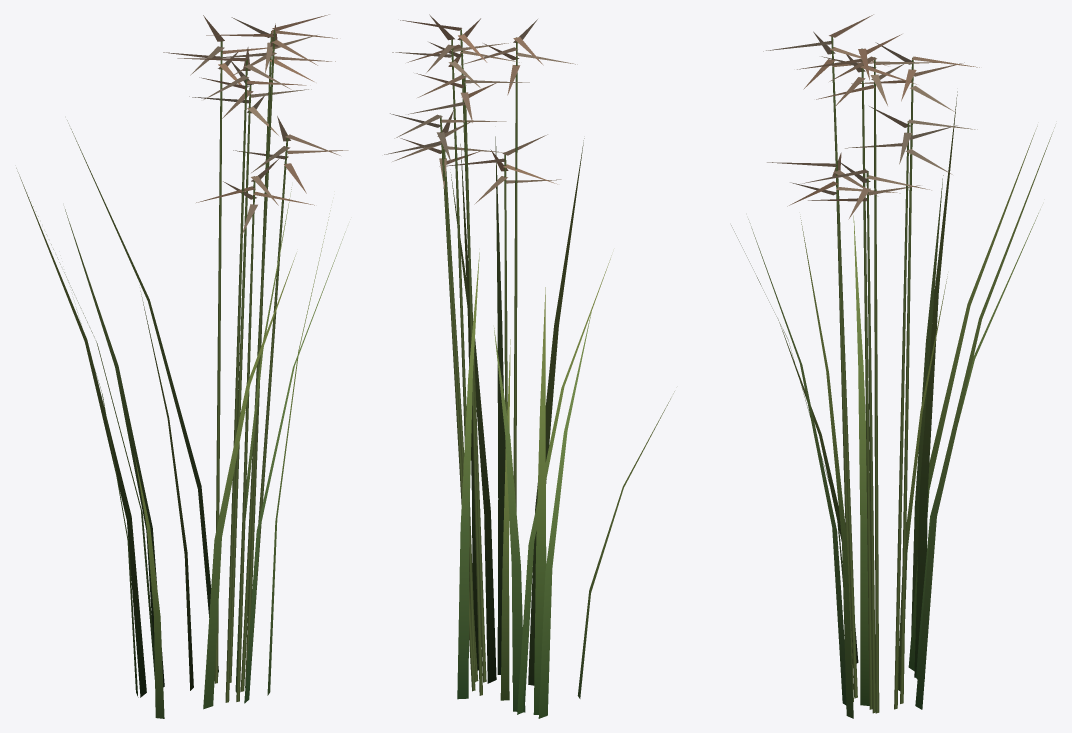
File: reeds-phragmites-a.lod1.glb
3 renders of one model, left to right at view 1: azimuth 30°, elevation 25°; view 2: azimuth 150°, elevation 25°; view 3: azimuth 270°, elevation 25°, orthographic. The views are drawn at different scales.
Visible parts, largest first — view 1: reeds-phragmites-a.lod1; view 2: reeds-phragmites-a.lod1; view 3: reeds-phragmites-a.lod1.
Part boxes in pixels (bbox=[...]): reeds-phragmites-a.lod1: bbox=[16, 14, 348, 718]; reeds-phragmites-a.lod1: bbox=[384, 14, 674, 718]; reeds-phragmites-a.lod1: bbox=[731, 14, 1054, 718].
Size of the model in its own units: 0.7993 by 1.82 by 0.8583.
